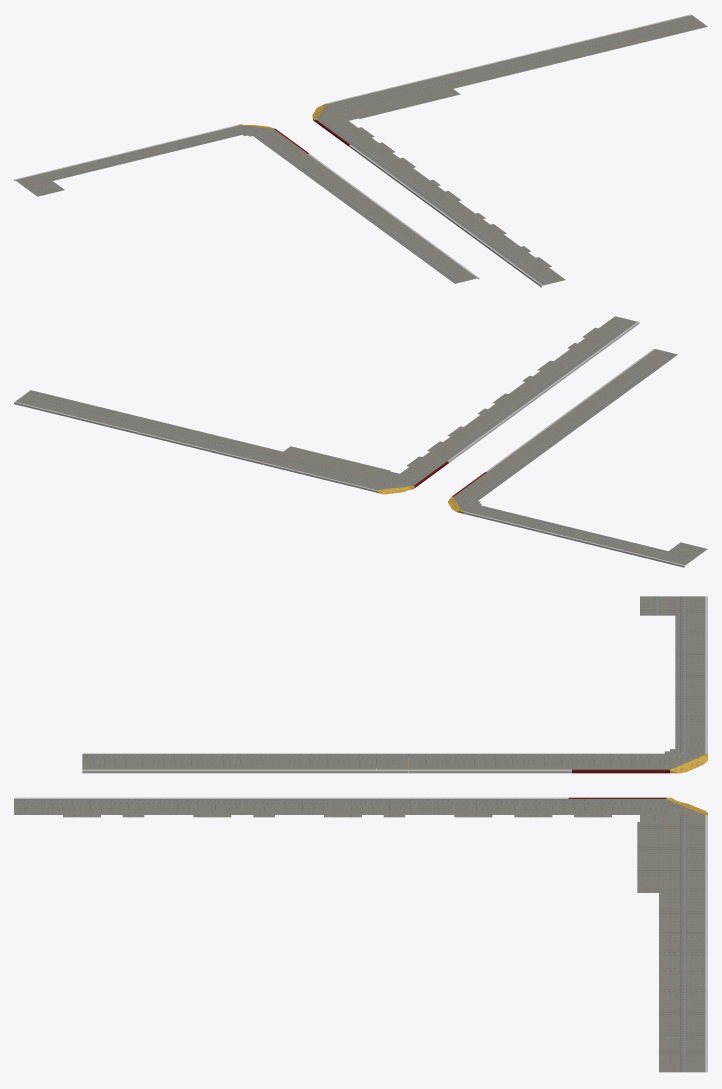
Rendered from SideWalker_Larpida.fbx.
3 renders of one model, top to bottom at view 1: azimuth 30°, elevation 25°; view 2: azimuth 150°, elevation 25°; view 3: azimuth 270°, elevation 25°, orthographic. The views are drawn at different scales.
Visible parts, largest first — view 1: Laprida_Cordon_SideWalker_02, Laprida_Cordon_SideWalker_01; view 2: Laprida_Cordon_SideWalker_02, Laprida_Cordon_SideWalker_01; view 3: Laprida_Cordon_SideWalker_02, Laprida_Cordon_SideWalker_01.
Boxes of the visible parts, <box> form: Laprida_Cordon_SideWalker_02: <box>312,14,707,287</box>; Laprida_Cordon_SideWalker_01: <box>14,124,479,283</box>; Laprida_Cordon_SideWalker_02: <box>14,316,639,494</box>; Laprida_Cordon_SideWalker_01: <box>448,348,707,567</box>; Laprida_Cordon_SideWalker_02: <box>14,797,707,1072</box>; Laprida_Cordon_SideWalker_01: <box>82,596,707,773</box>.
Bounding box in the file's own units: 207 × 0.5139 × 128.
